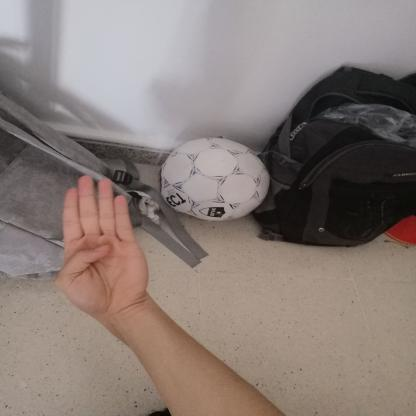KAAF: (40, 164, 161, 326)
